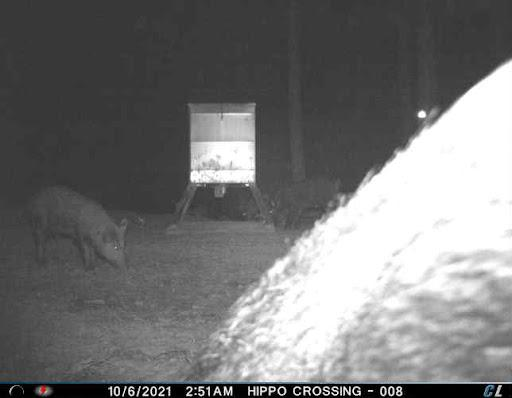Hog: (184, 53, 512, 384), (29, 179, 149, 278), (258, 170, 343, 232)
